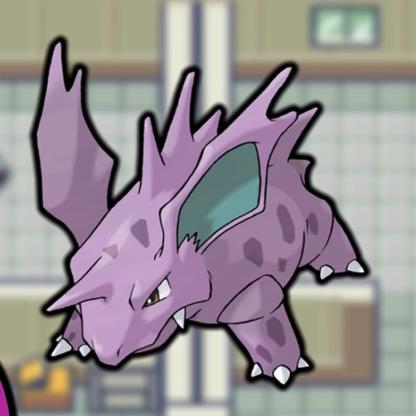Nidorino: (27, 28, 377, 391)
